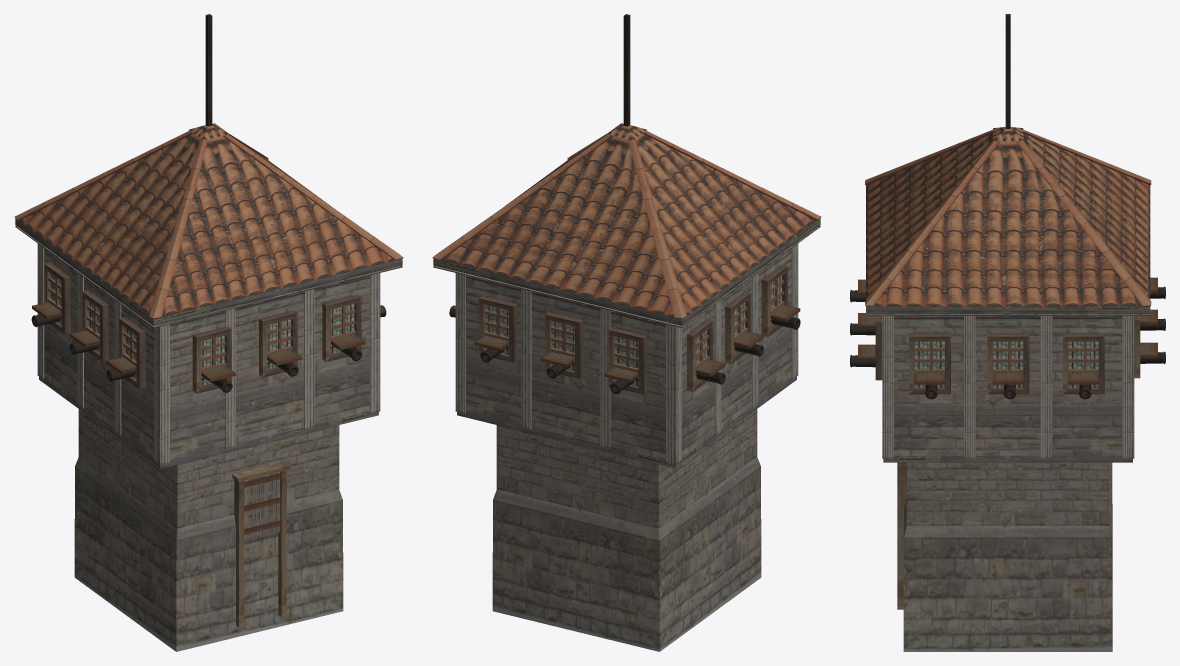
The model's file is wach_tower.dae.
3 views of the same model, side by side, from view 1: azimuth 30°, elevation 25°; view 2: azimuth 150°, elevation 25°; view 3: azimuth 270°, elevation 25° (orthographic). The views are drawn at different scales.
Visible parts, largest first — view 1: WachTower; view 2: WachTower; view 3: WachTower.
Boxes of the visible parts, x1=… form: WachTower: x1=14, y1=14, x2=403, y2=651; WachTower: x1=432, y1=14, x2=821, y2=651; WachTower: x1=850, y1=14, x2=1165, y2=651.
Size of the model in its own units: 15.51 by 15.12 by 31.44.
1 material, 1 textured.
